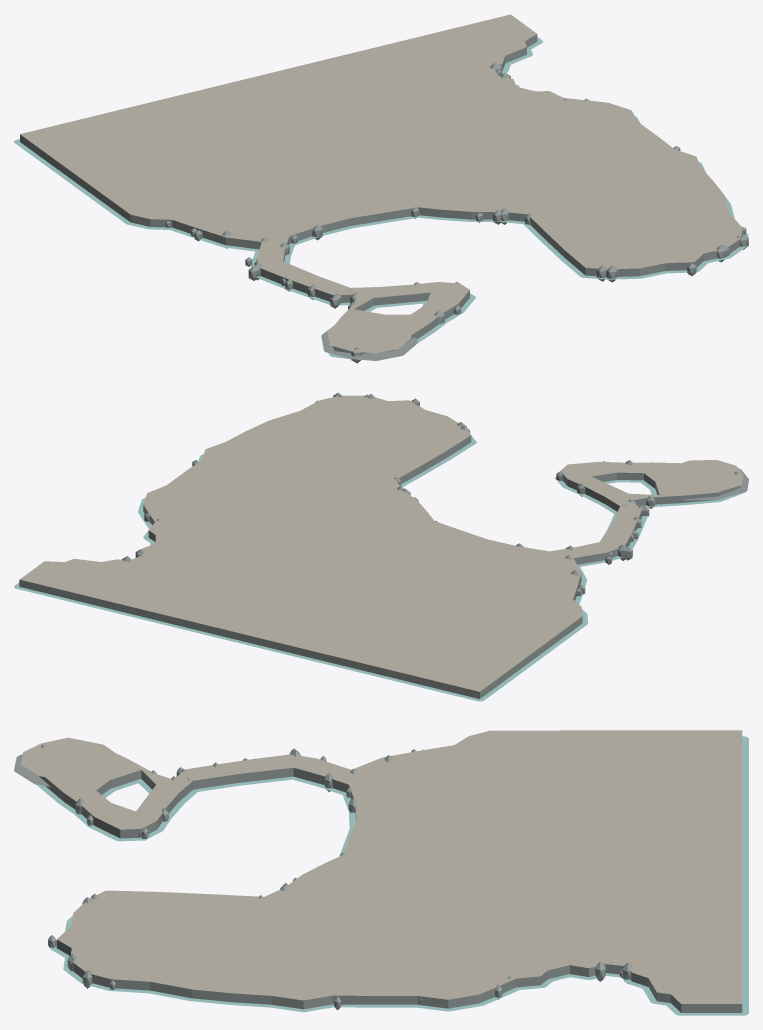
File: 01_Ground.glb
3 views of the same model, one above another, from view 1: azimuth 30°, elevation 25°; view 2: azimuth 150°, elevation 25°; view 3: azimuth 270°, elevation 25° (orthographic). The views are drawn at different scales.
Visible parts, largest first — view 1: Mainland continuous upper surface, Continuous coastal cliff face, Coastal shallow shelf0, Lighthouse rock grassy top, Lighthouse crag shelf; view 2: Mainland continuous upper surface, Continuous coastal cliff face, Coastal shallow shelf0, Lighthouse rock grassy top; view 3: Mainland continuous upper surface, Continuous coastal cliff face, Coastal shallow shelf0, Lighthouse rock grassy top.
Part boxes in pixels (box(x1,y1,x2,y2)): Mainland continuous upper surface: box(20, 14, 742, 347); Continuous coastal cliff face: box(20, 34, 742, 353); Coastal shallow shelf0: box(14, 37, 748, 359); Lighthouse rock grassy top: box(327, 315, 411, 353); Lighthouse crag shelf: box(321, 331, 417, 360); Mainland continuous upper surface: box(20, 395, 721, 691); Continuous coastal cliff face: box(19, 435, 740, 698); Coastal shallow shelf0: box(14, 436, 746, 701); Lighthouse rock grassy top: box(659, 460, 743, 492); Mainland continuous upper surface: box(45, 730, 742, 1003); Continuous coastal cliff face: box(38, 767, 742, 1012); Coastal shallow shelf0: box(36, 736, 748, 1015); Lighthouse rock grassy top: box(20, 737, 121, 780).
Size of the model in its own units: 190 by 6.92 by 211.
